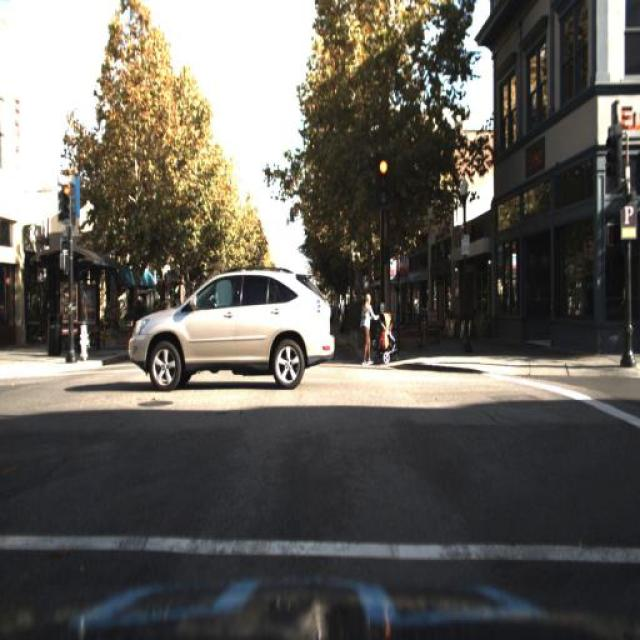car: (119, 257, 333, 391)
trafficLight: (347, 286, 398, 368)
trafficLight-RedLeft: (57, 172, 79, 220), (58, 180, 72, 222), (376, 154, 390, 194)
